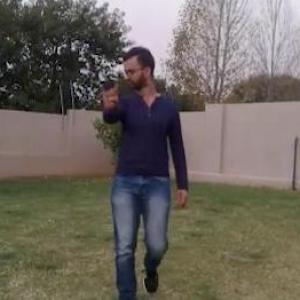takeoff-hand: (94, 71, 120, 116)
